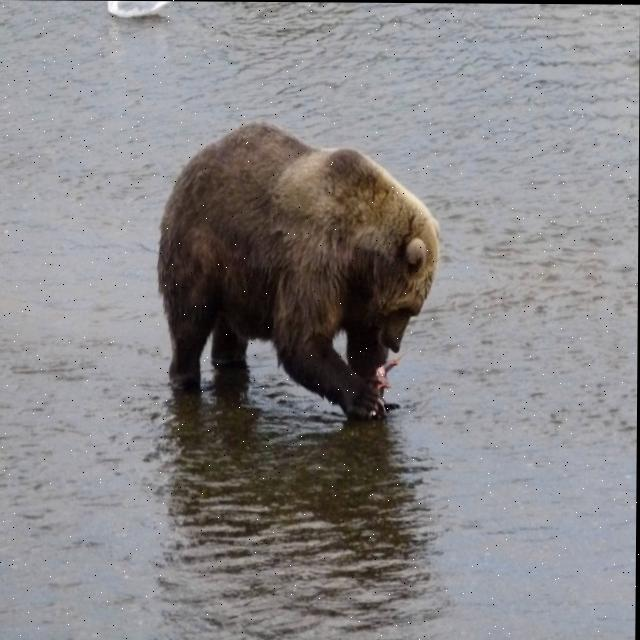bear face: (156, 117, 447, 419)
